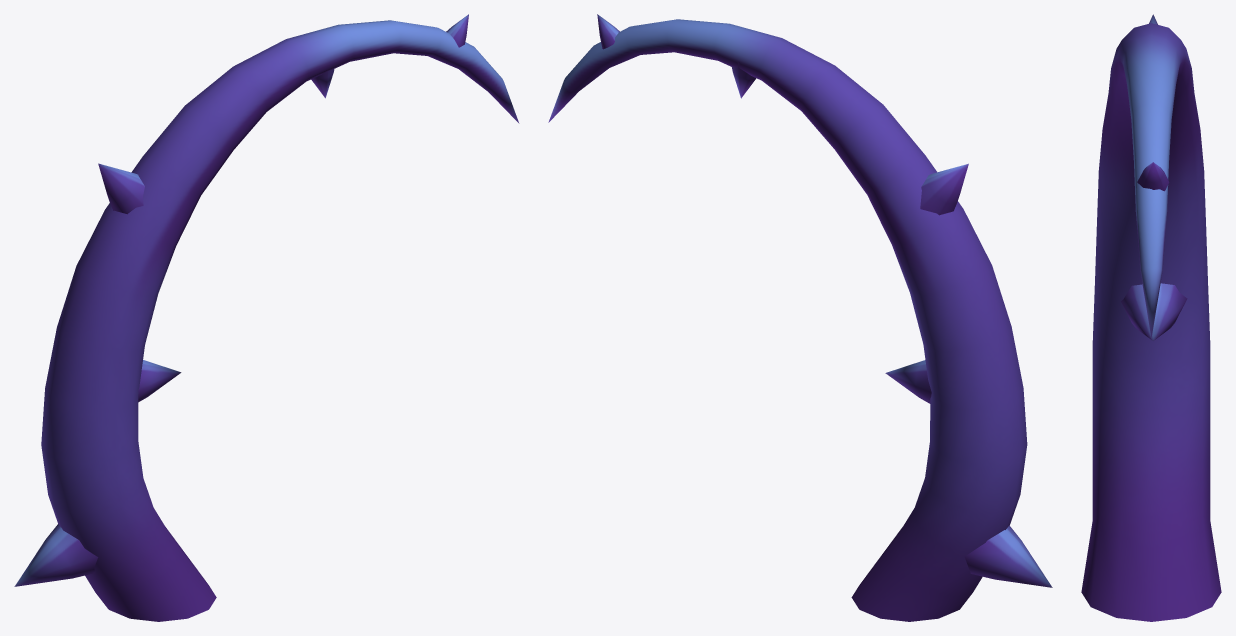
Rendered from ThornVine_S_04.fbx.
The picture shows the model from 3 angles, left to right: view 1: azimuth 30°, elevation 25°; view 2: azimuth 150°, elevation 25°; view 3: azimuth 270°, elevation 25°; orthographic projection. The views are drawn at different scales.
Visible parts, largest first — view 1: ThornVine_S_4; view 2: ThornVine_S_4; view 3: ThornVine_S_4.
Boxes of the visible parts, <box> form: ThornVine_S_4: <box>14,14,519,621</box>; ThornVine_S_4: <box>548,14,1052,621</box>; ThornVine_S_4: <box>1081,14,1221,621</box>.
Bounding box in the file's own units: 59.97 × 59.81 × 11.92.
